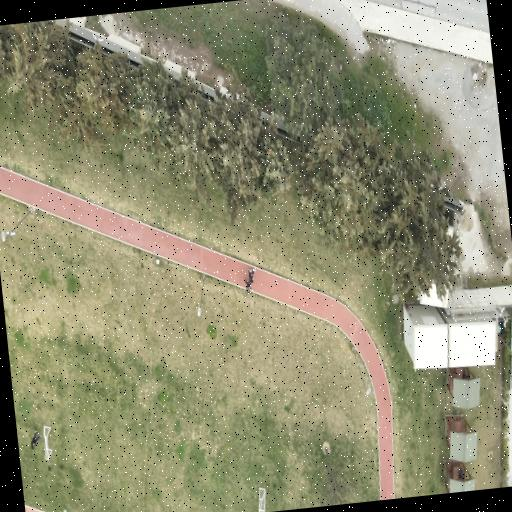person: (245, 268, 255, 292), (31, 431, 42, 448), (248, 268, 255, 283), (245, 278, 252, 292)
